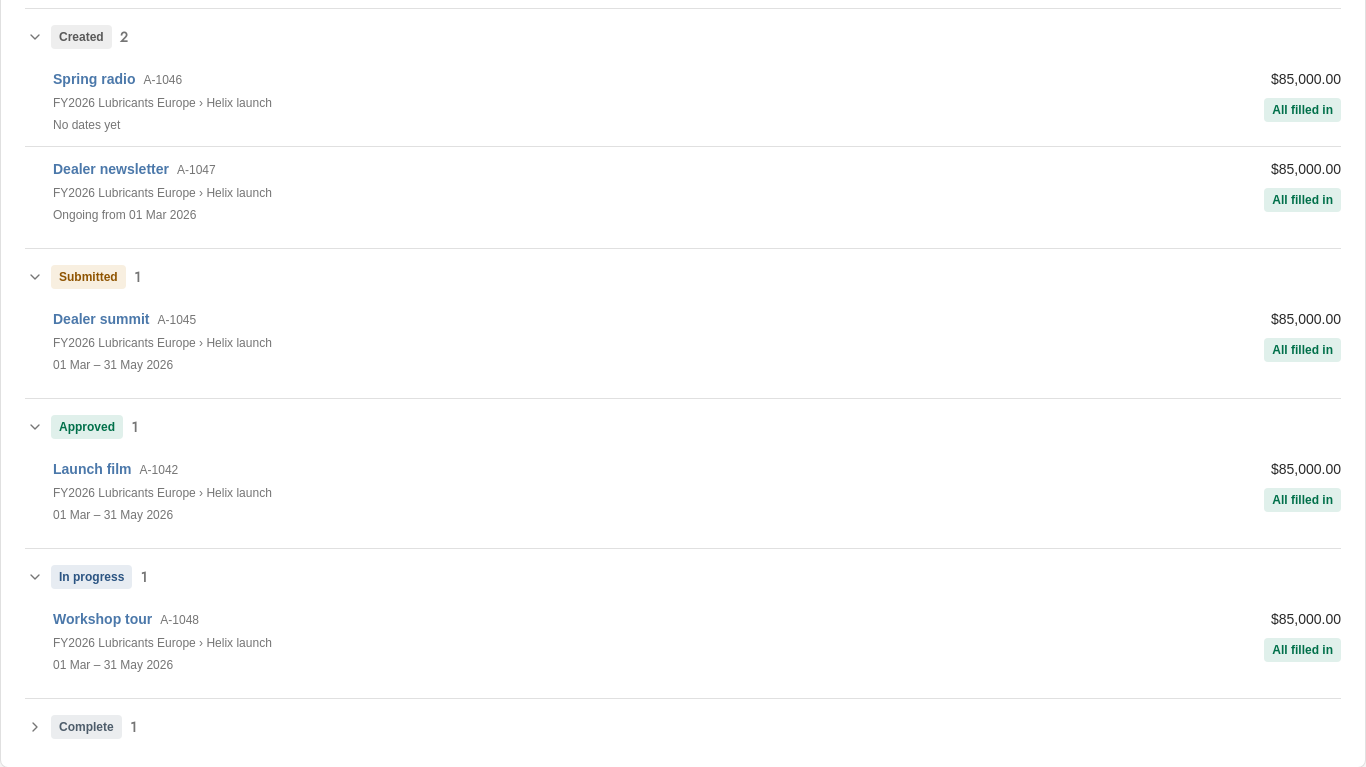
Test: MyActivitiesCard › unfolds and folds a group on its button (FR-014)
This screenshot has width=1366, height=767.
(page scrolled)
Click the button "Complete 1" at (85,727), box [25, 711, 146, 743]
(page scrolled)
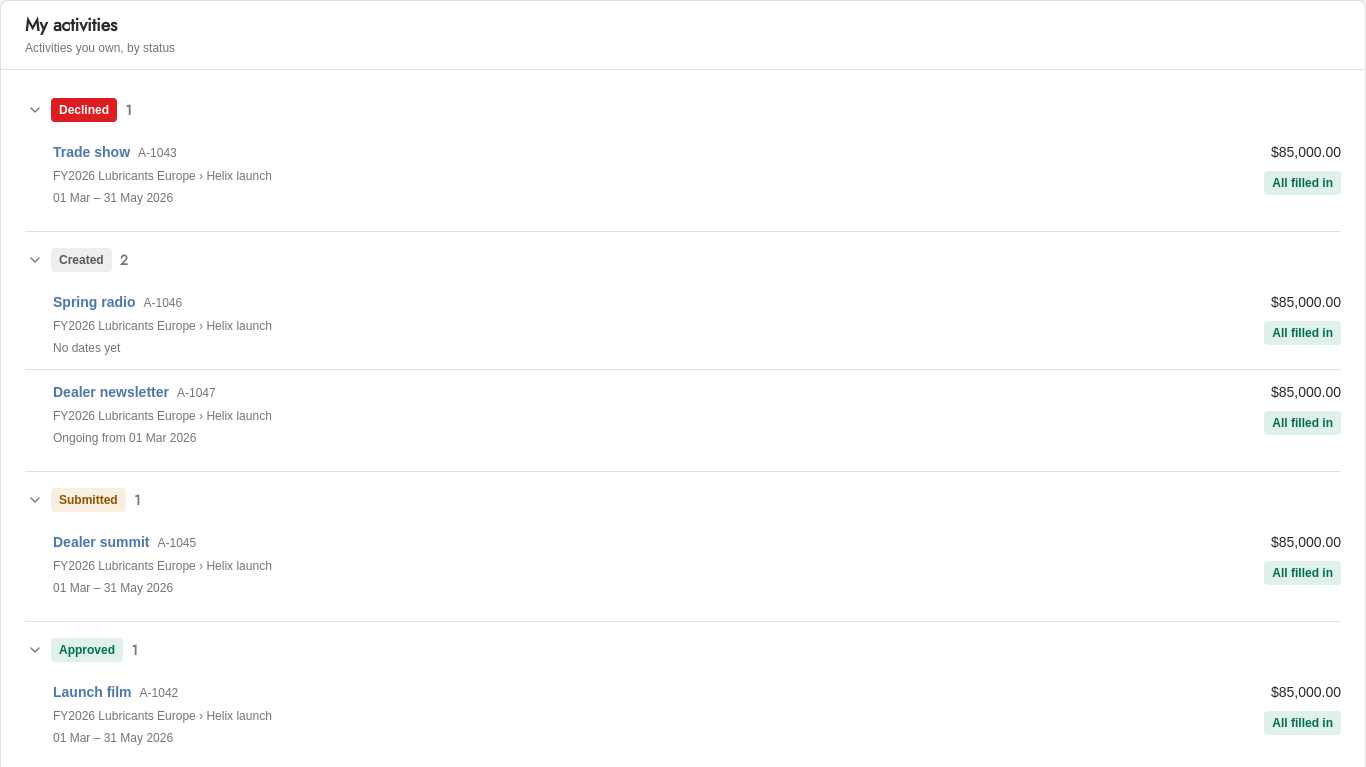
Click the button "Declined 1" at (83,110), box [25, 94, 141, 126]
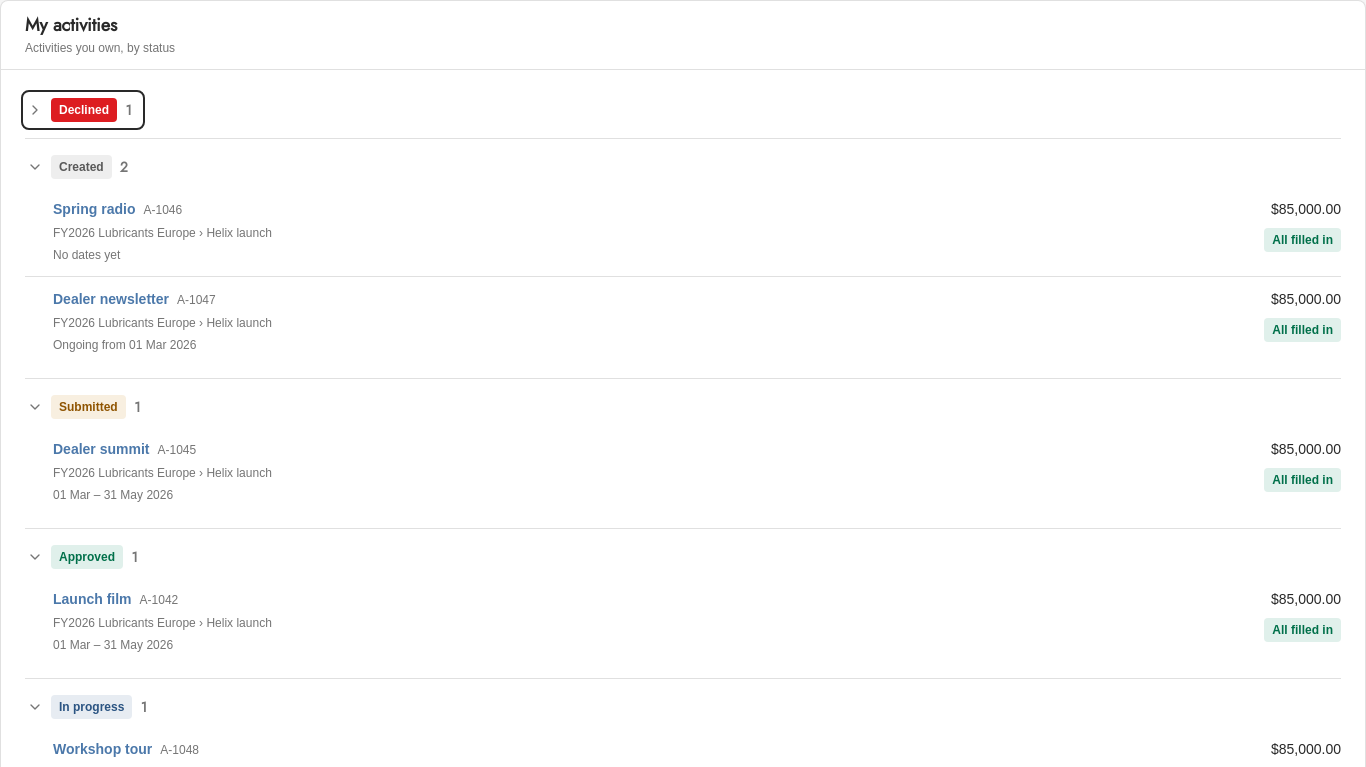
Check: the link "Trade show" is gone
